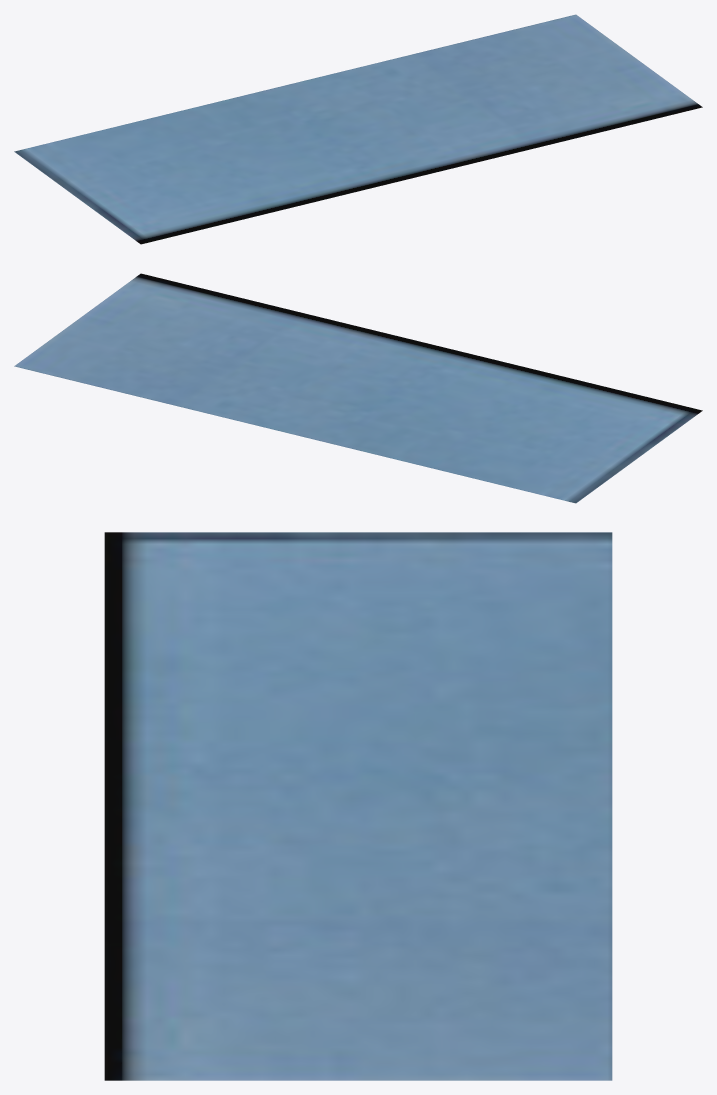
File: far-south-atlantic-sea.gltf
The picture shows the model from 3 angles, top to bottom: view 1: azimuth 30°, elevation 25°; view 2: azimuth 150°, elevation 25°; view 3: azimuth 270°, elevation 25°; orthographic projection. The views are drawn at different scales.
Parts seen in each view (by area): view 1: Plane; view 2: Plane; view 3: Plane.
Boxes of the visible parts, <box> form: Plane: <box>14,14,702,244</box>; Plane: <box>14,273,702,503</box>; Plane: <box>104,532,612,1080</box>.
Bounding box in the file's own units: 0.4936 × 0 × 0.1931.
1 material, 1 textured.
